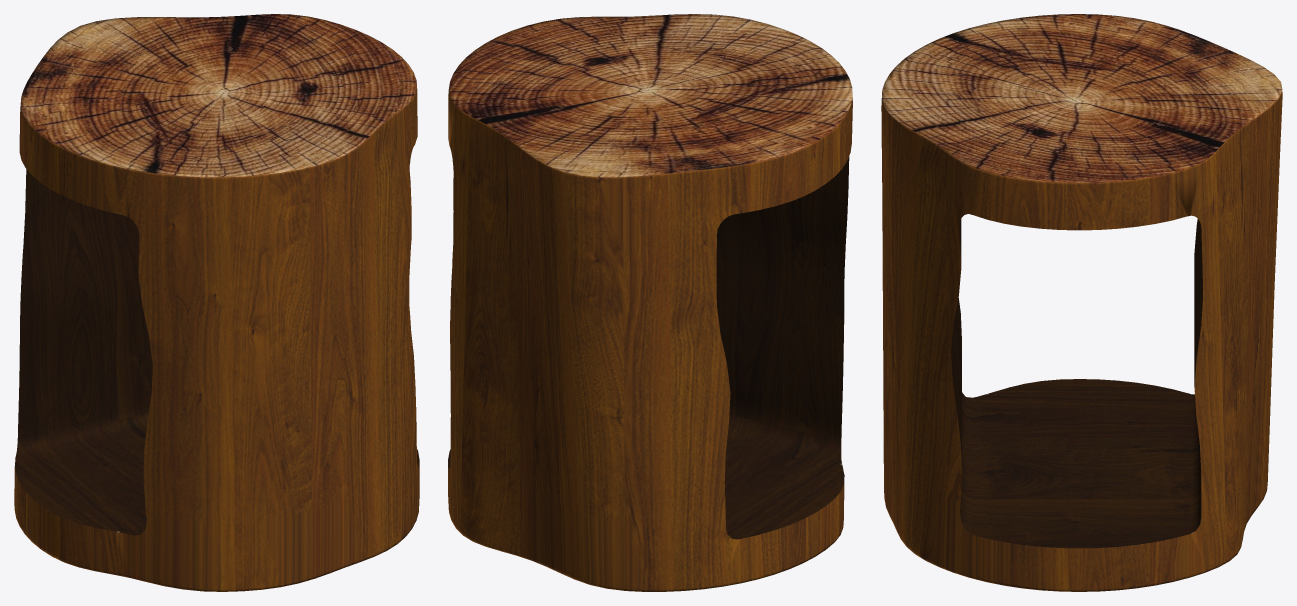
File: DidoStool.glb
3 views of the same model, side by side, from view 1: azimuth 30°, elevation 25°; view 2: azimuth 150°, elevation 25°; view 3: azimuth 270°, elevation 25° (orthographic).
Visible parts, largest first — view 1: Cylinder.001, Cylinder.002; view 2: Cylinder.001, Cylinder.002; view 3: Cylinder.001, Cylinder.002.
Boxes of the visible parts, x1,y1,x2,y2 form: Cylinder.001: (14,14,419,591); Cylinder.002: (15,169,419,535); Cylinder.001: (448,14,852,591); Cylinder.002: (448,156,849,539); Cylinder.001: (881,14,1282,591); Cylinder.002: (951,219,1202,548).
Size of the model in its own units: 0.4 by 0.45 by 0.4.
Materials: 3 (3 with a texture image).
